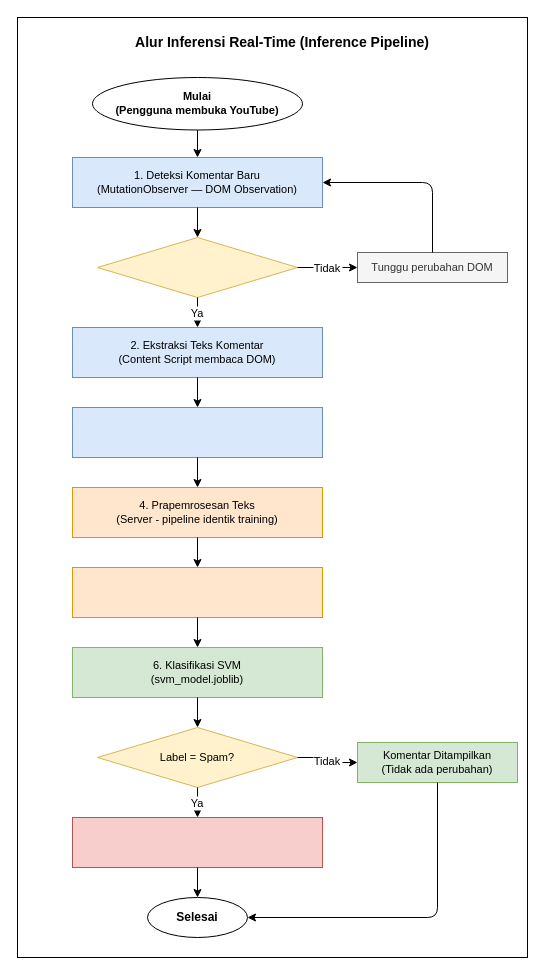
Some shapes in this 545 by 975 pixel diagram are drawn without their labels. Here are the shapes that lost their labels. From the top down, the centre of each, then its label:
At point (197, 267): "Ada komentar baru di DOM?".
At point (197, 432): "3. Pengiriman ke Server (HTTP POST >> /predict/batch)".
At point (197, 592): "5. Ekstraksi Fitur TF-IDF (Transformasi vektor numerik)".
At point (197, 842): "7. Sembunyikan Komentar (CSS: display: none)".
